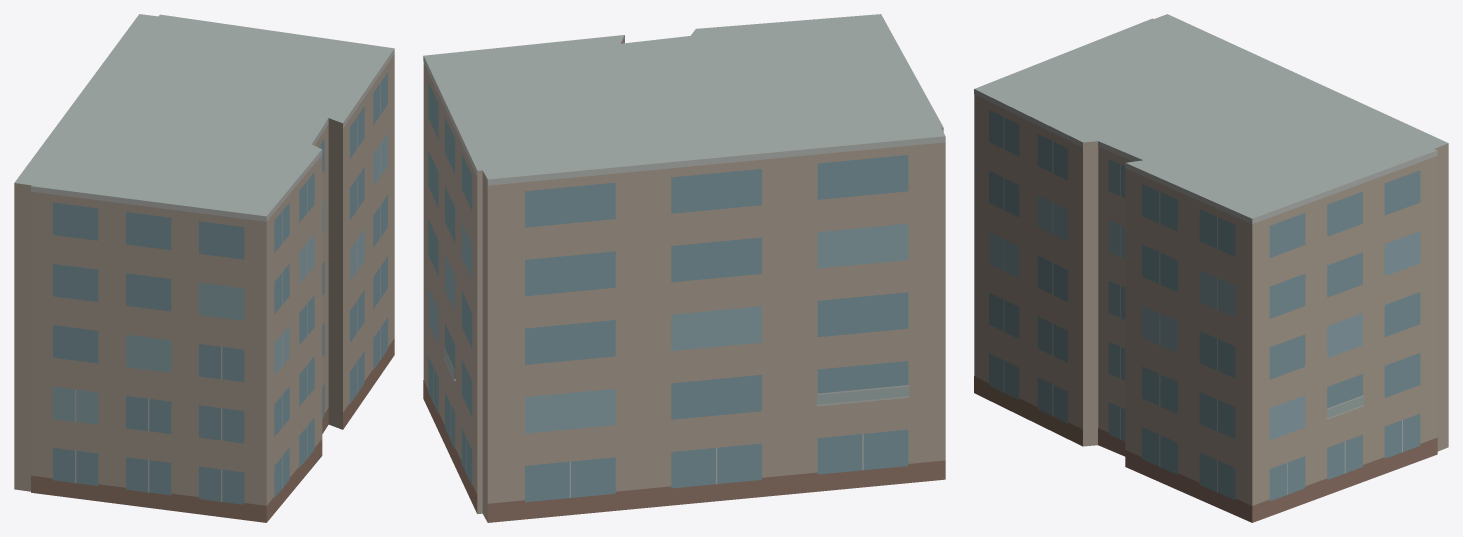
File: survey-upis-32860609.glb
3 views of the same model, side by side, from view 1: azimuth 30°, elevation 25°; view 2: azimuth 150°, elevation 25°; view 3: azimuth 270°, elevation 25° (orthographic). The views are drawn at different scales.
Parts seen in each view (by area): view 1: survey-upis-32860609.tmp; view 2: survey-upis-32860609.tmp; view 3: survey-upis-32860609.tmp.
Part boxes in pixels (x1,y1,x2,y2): survey-upis-32860609.tmp: (14,14,394,522); survey-upis-32860609.tmp: (423,14,945,522); survey-upis-32860609.tmp: (974,14,1448,522).
Size of the model in its own units: 19.8 by 13.7 by 19.39.
